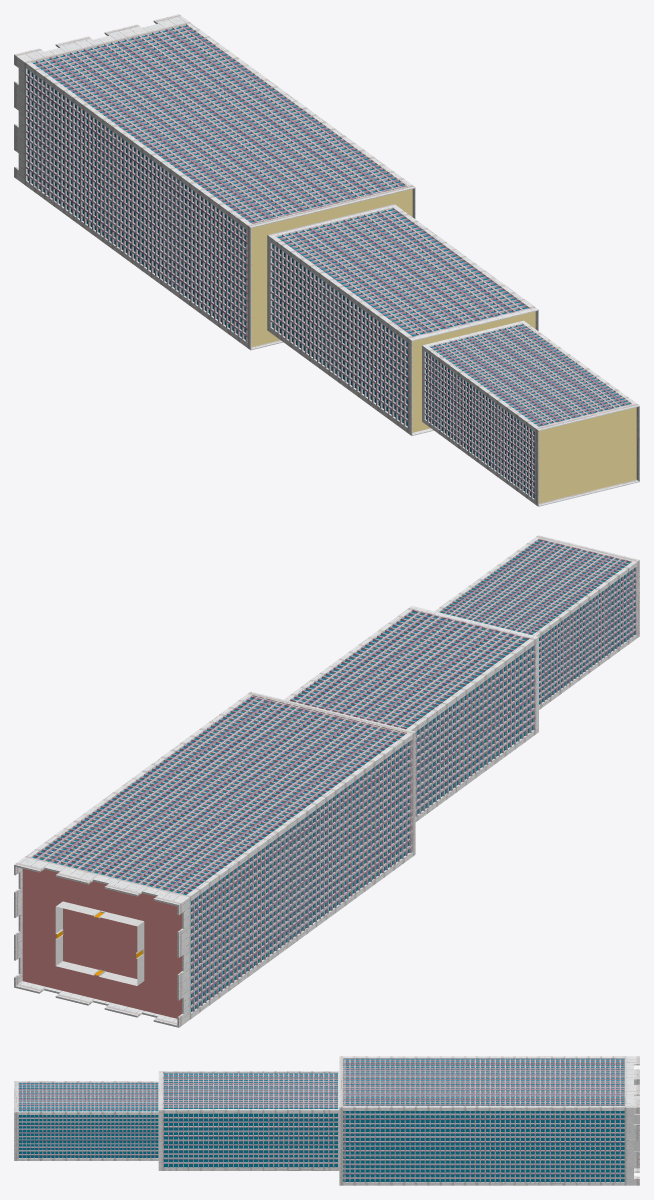
Rendered from Sky017.obj.
3 views of the same model, one above another, from view 1: azimuth 30°, elevation 25°; view 2: azimuth 150°, elevation 25°; view 3: azimuth 270°, elevation 25° (orthographic). The views are drawn at different scales.
Parts seen in each view (by area): view 1: wall_1_03, wall_1_01, glaz_01, wall_1_02, slab_01, wall_1_04, wall_1_05, wall_1_09, glaz_02, wall_1_06, wall_1_08, wall_10 (+7 smaller); view 2: wall_1_03, wall_1_01, wall_1_02, glaz_01, slab_new_01, wall_1_04, wall_1_05, wall_1_09, wall_10, glaz_02, wall_1_08, wall_1_06 (+7 smaller); view 3: wall_1_03, glaz_01, wall_1_04, glaz_02, wall_1_02, glaz_03, wall_1_09, wall_1_01, wall_01, wall_1_07, wall_10, wall_1_06 (+6 smaller).
Boxes of the visible parts, x1,y1,x2,y2 form: wall_1_03: [26, 25, 401, 336]; wall_1_01: [34, 26, 406, 223]; glaz_01: [27, 26, 403, 339]; wall_1_02: [29, 71, 247, 342]; slab_01: [251, 189, 636, 503]; wall_1_04: [270, 209, 522, 422]; wall_1_05: [279, 209, 530, 336]; wall_1_09: [424, 325, 626, 494]; glaz_02: [272, 209, 527, 425]; wall_1_06: [273, 245, 408, 428]; wall_1_08: [431, 325, 632, 426]; wall_10: [14, 14, 639, 506]; wall_1_03: [36, 696, 412, 1008]; wall_1_01: [33, 696, 406, 893]; wall_1_02: [192, 740, 411, 1011]; glaz_01: [33, 698, 408, 1011]; slab_new_01: [22, 868, 181, 1018]; wall_1_04: [295, 611, 535, 810]; wall_1_05: [290, 609, 530, 729]; wall_1_09: [444, 540, 636, 700]; wall_10: [14, 535, 639, 1027]; glaz_02: [293, 612, 532, 814]; wall_1_08: [440, 538, 632, 634]; wall_1_06: [415, 644, 535, 816]; wall_1_03: [343, 1059, 624, 1178]; glaz_01: [343, 1059, 624, 1181]; wall_1_04: [163, 1074, 337, 1163]; glaz_02: [164, 1073, 337, 1167]; wall_1_02: [344, 1111, 620, 1182]; glaz_03: [19, 1083, 158, 1157]; wall_1_09: [18, 1083, 158, 1155]; wall_1_01: [344, 1058, 620, 1105]; wall_01: [343, 1056, 630, 1185]; wall_1_07: [18, 1115, 155, 1158]; wall_10: [14, 1056, 639, 1185]; wall_1_06: [163, 1113, 334, 1167].
Size of the model in its own units: 2903 by 2063 by 15005.
Materials: 6 (2 with a texture image).
